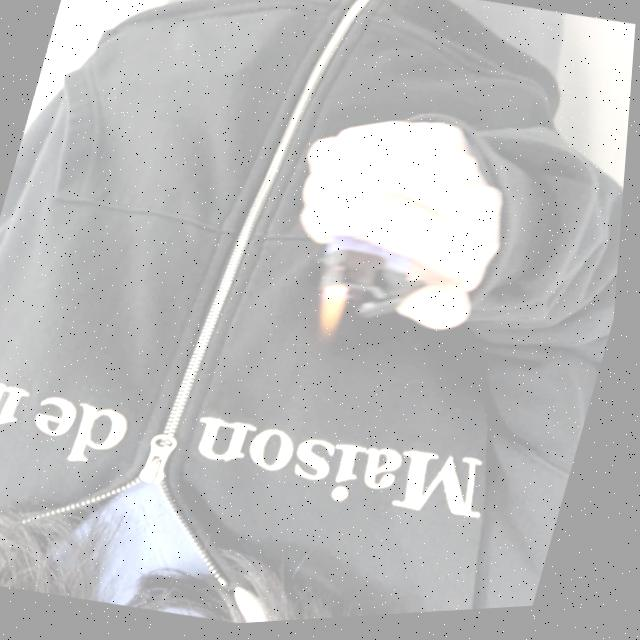Fire: (310, 283, 358, 344)
